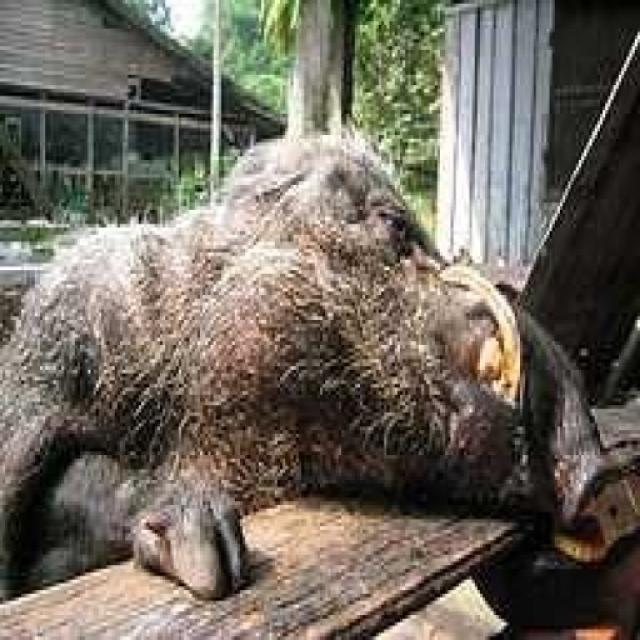pig: (0, 106, 640, 572)
